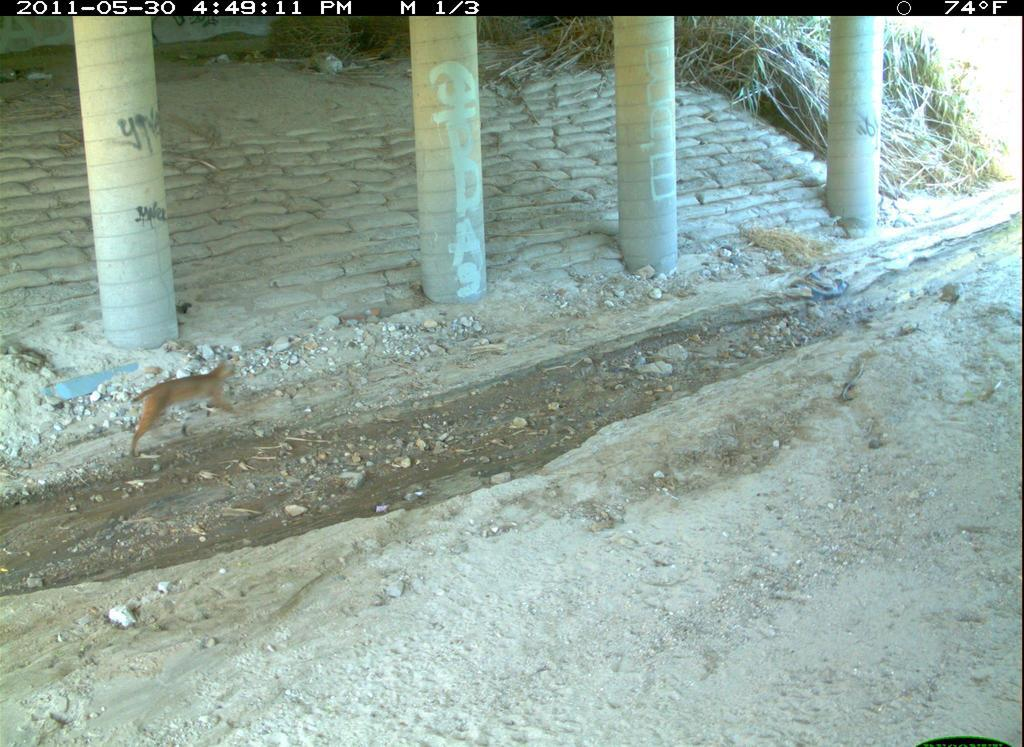bobcat: (251, 705, 501, 747)
